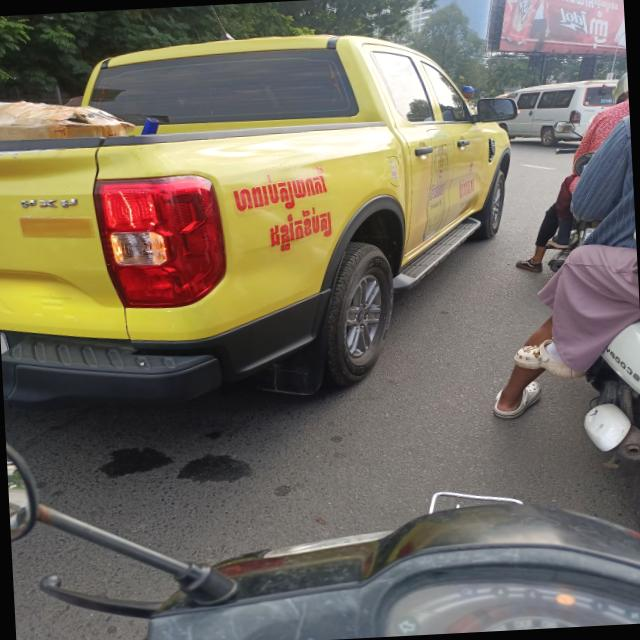Yolov11kh: (223, 162, 338, 226), (261, 199, 338, 258), (582, 8, 614, 51), (553, 0, 621, 16)
